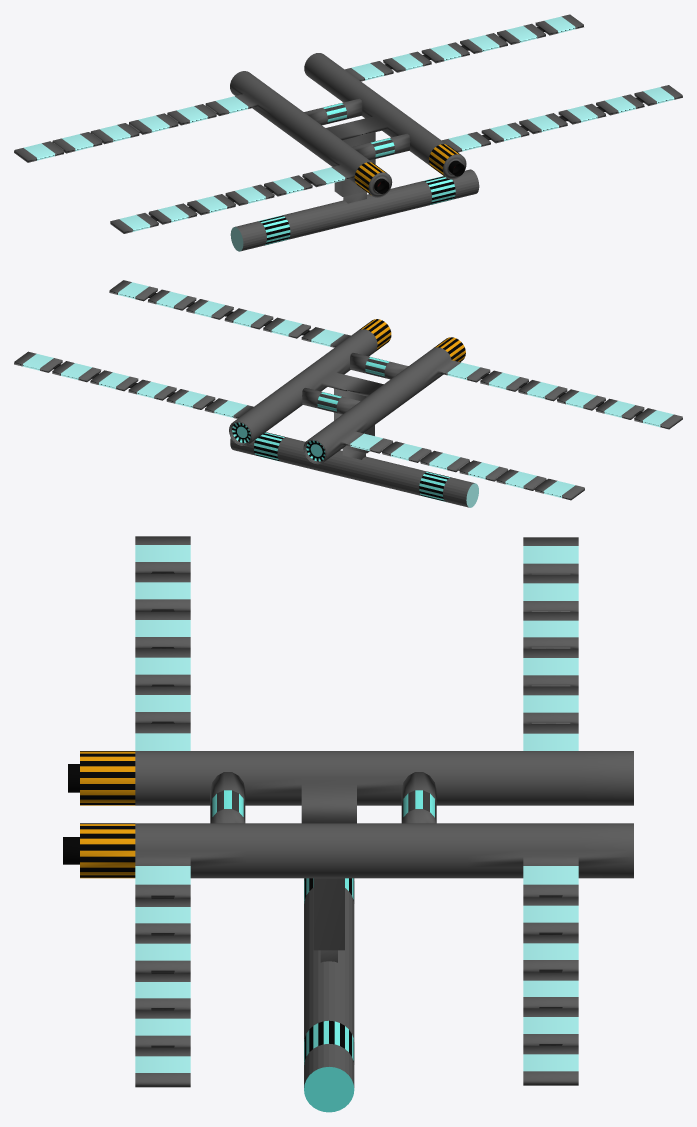
File: spaceStation.fbx
3 views of the same model, one above another, from view 1: azimuth 30°, elevation 25°; view 2: azimuth 150°, elevation 25°; view 3: azimuth 270°, elevation 25° (orthographic). The views are drawn at different scales.
Parts seen in each view (by area): view 1: Cylinder; view 2: Cylinder; view 3: Cylinder.
Part boxes in pixels (<box>): Cylinder: <box>14,14,682,251</box>; Cylinder: <box>14,280,682,507</box>; Cylinder: <box>63,536,633,1112</box>.
Bounding box in the file's own units: 8240 × 1463 × 3647.
